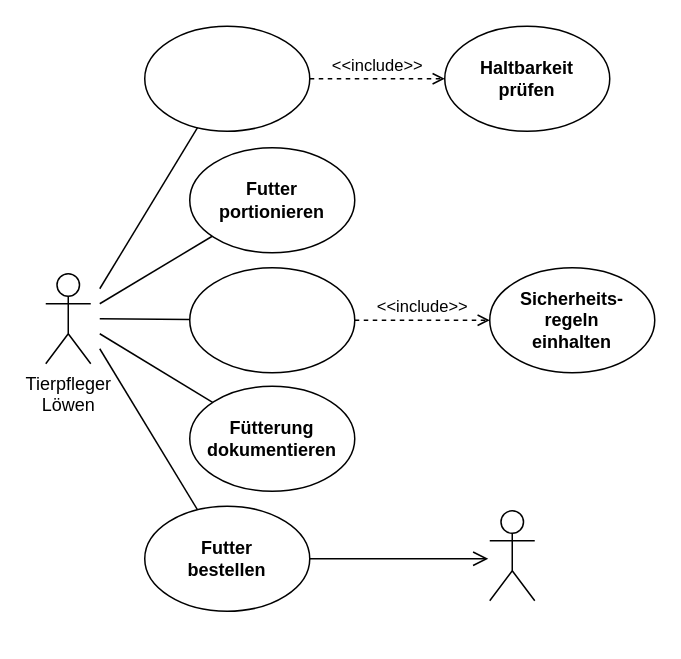
This 681x659 diagram has some shape labels left out. Each missing label, with the centre of its shape:
"Futter lagern" goes at point 226,78.
"Futterhändler" goes at point 511,555.
"Tiere füttern" goes at point 271,319.
